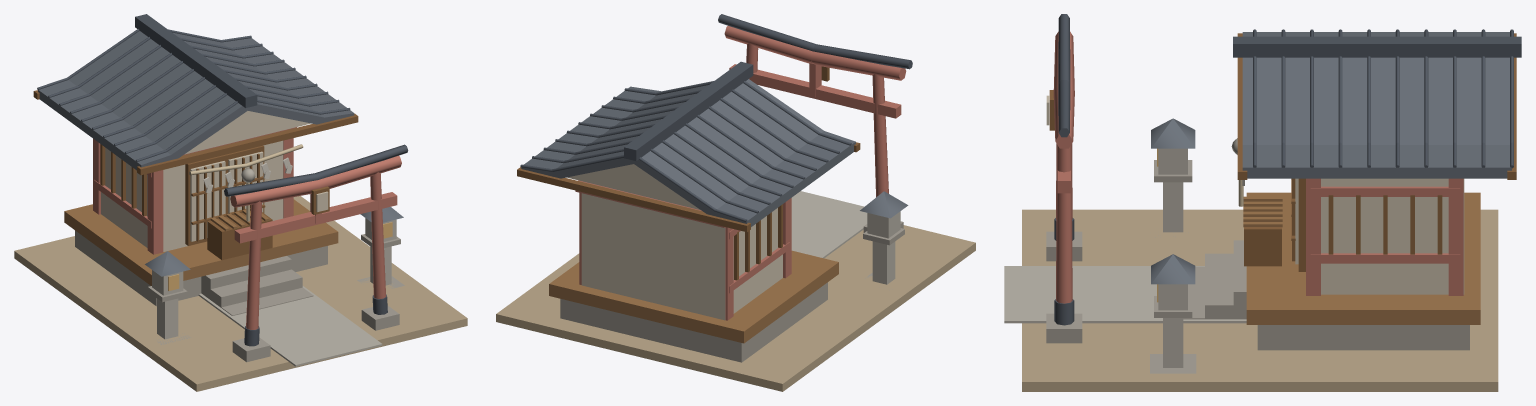
The model's file is komachi-shrine.glb.
The picture shows the model from 3 angles, left to right: view 1: azimuth 30°, elevation 25°; view 2: azimuth 150°, elevation 25°; view 3: azimuth 270°, elevation 25°; orthographic projection. The views are drawn at different scales.
Visible parts, largest first — view 1: Shrine_Hall, Shrine_Torii, Shrine_Offerings_And_Lanterns; view 2: Shrine_Hall, Shrine_Torii, Shrine_Offerings_And_Lanterns; view 3: Shrine_Hall, Shrine_Offerings_And_Lanterns, Shrine_Torii.
Boxes of the visible parts, box(x1,y1,x2,y2) form: Shrine_Hall: box(14, 14, 467, 391); Shrine_Torii: box(224, 144, 408, 362); Shrine_Offerings_And_Lanterns: box(145, 144, 404, 344); Shrine_Hall: box(496, 61, 975, 391); Shrine_Torii: box(718, 14, 912, 232); Shrine_Offerings_And_Lanterns: box(860, 191, 908, 290); Shrine_Hall: box(1004, 29, 1521, 391); Shrine_Offerings_And_Lanterns: box(1150, 118, 1282, 373); Shrine_Torii: box(1046, 14, 1082, 343).
Bounding box in the file's own units: 1.5 × 1.08 × 1.9.
